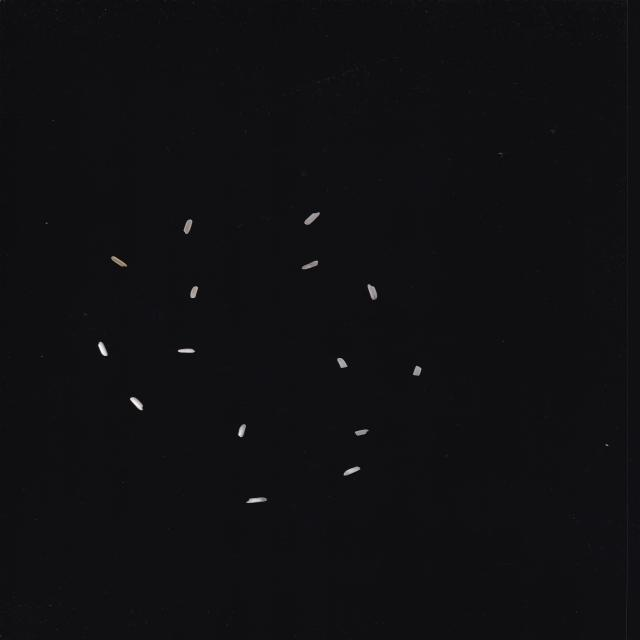Chalky: (343, 466, 361, 476), (245, 497, 268, 503), (238, 424, 246, 438)
Not: (304, 212, 320, 225), (130, 397, 144, 411), (301, 260, 319, 270), (98, 341, 109, 357), (367, 284, 378, 300), (111, 256, 127, 267), (183, 220, 193, 234), (337, 358, 348, 368), (354, 429, 369, 436), (412, 366, 422, 376), (190, 286, 198, 298), (177, 348, 196, 353)
